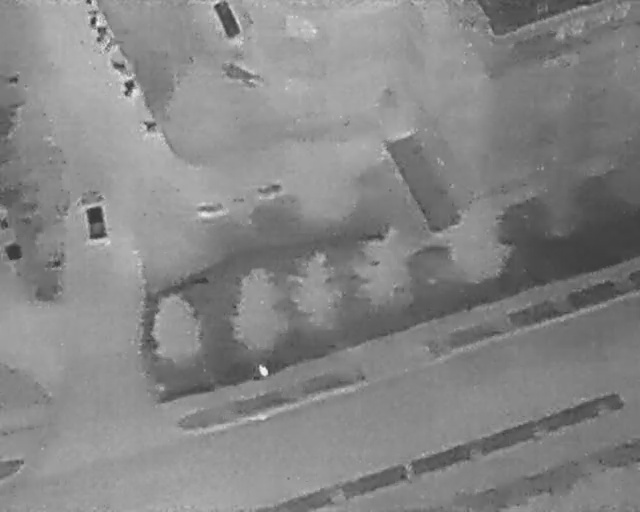Car: (76, 187, 113, 246)
